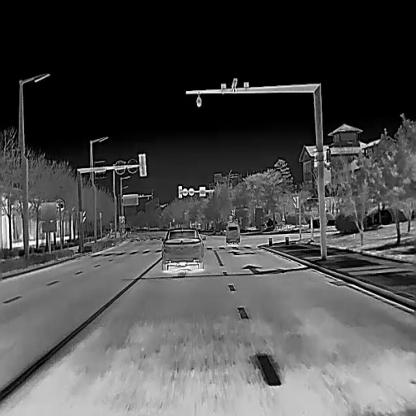car: (158, 225, 207, 270), (224, 221, 241, 245)
